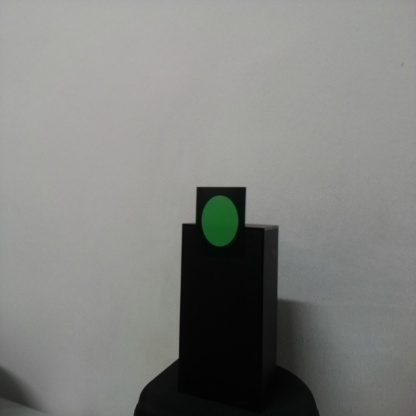id_5: (196, 188, 246, 267)
